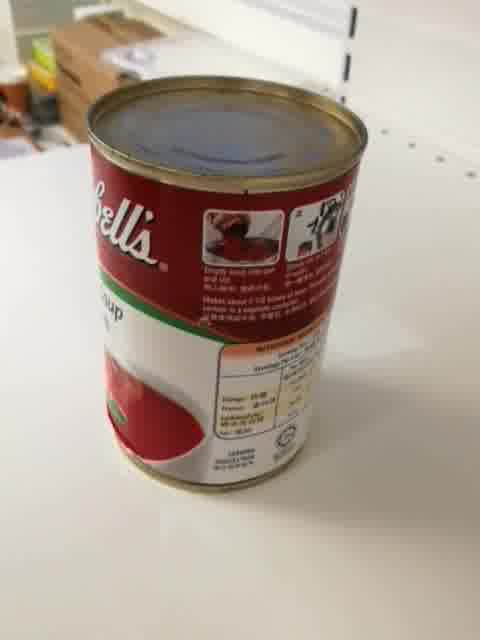tomatosoup: (83, 73, 368, 495)
